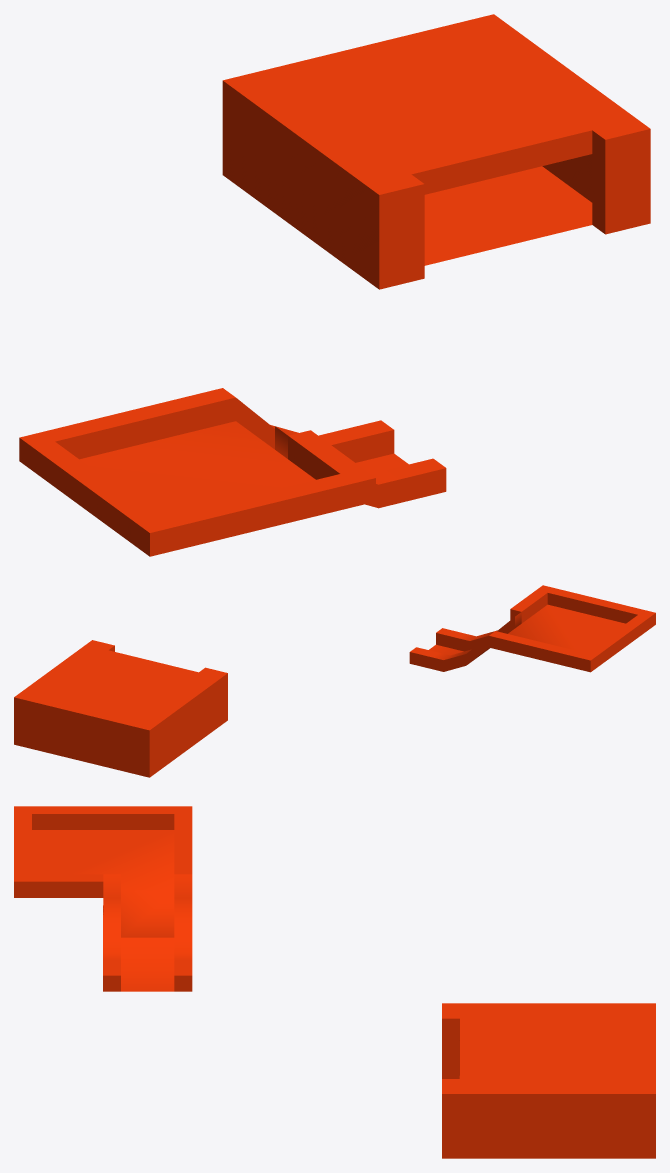
File: DebugRoom3_20240715_EXT_Parts_Colli.fbx
The picture shows the model from 3 angles, top to bottom: view 1: azimuth 30°, elevation 25°; view 2: azimuth 150°, elevation 25°; view 3: azimuth 270°, elevation 25°; orthographic projection. The views are drawn at different scales.
Parts seen in each view (by area): view 1: CollisionMap_Ext1; view 2: CollisionMap_Ext1; view 3: CollisionMap_Ext1.
Boxes of the visible parts, x1,y1,x2,y2 form: CollisionMap_Ext1: (19, 14, 650, 556); CollisionMap_Ext1: (14, 585, 655, 777); CollisionMap_Ext1: (14, 806, 655, 1158).
Bounding box in the file's own units: 7.2 × 1 × 7.2.
